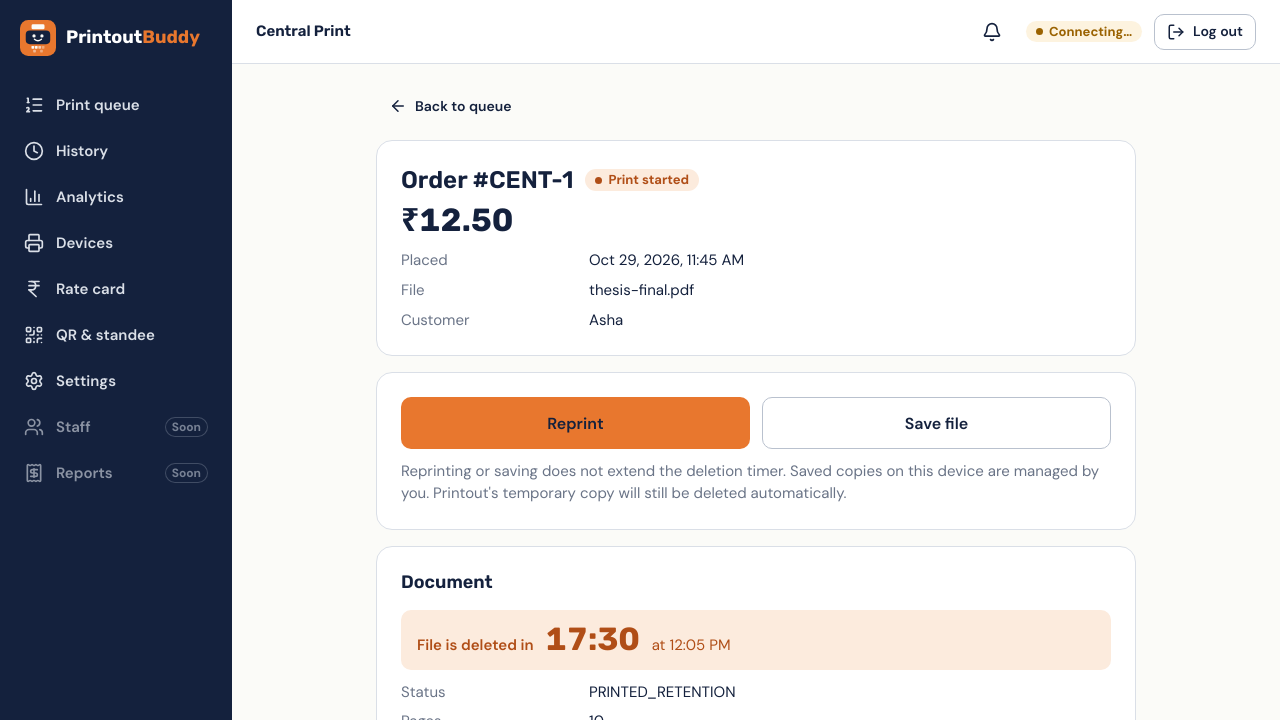
it: order detail › after Print: countdown from the server deleteAfter, "Print started" row, and Reprint does not change it
This screenshot has width=1280, height=720.
expect the text with test id "countdown" reads "17:30": met, box [546,620,640,658]
expect the text "does not extend the deletion timer" is shown: met, box [401,461,790,481]
Click the button "Reprint" at [576, 423], box [401,397,750,449]
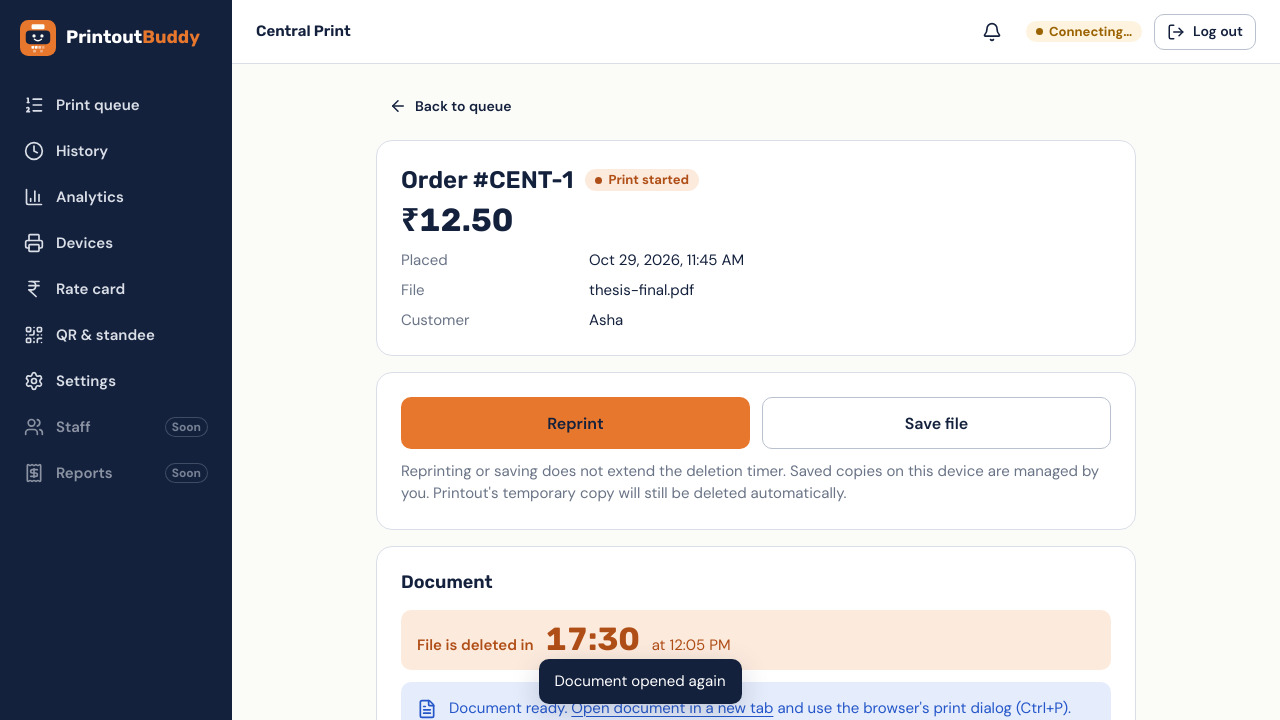
expect the text with test id "countdown" reads "17:30": met, box [546,620,640,658]
expect the link "Open document in a new tab" is shown: met, box [571,698,773,718]
